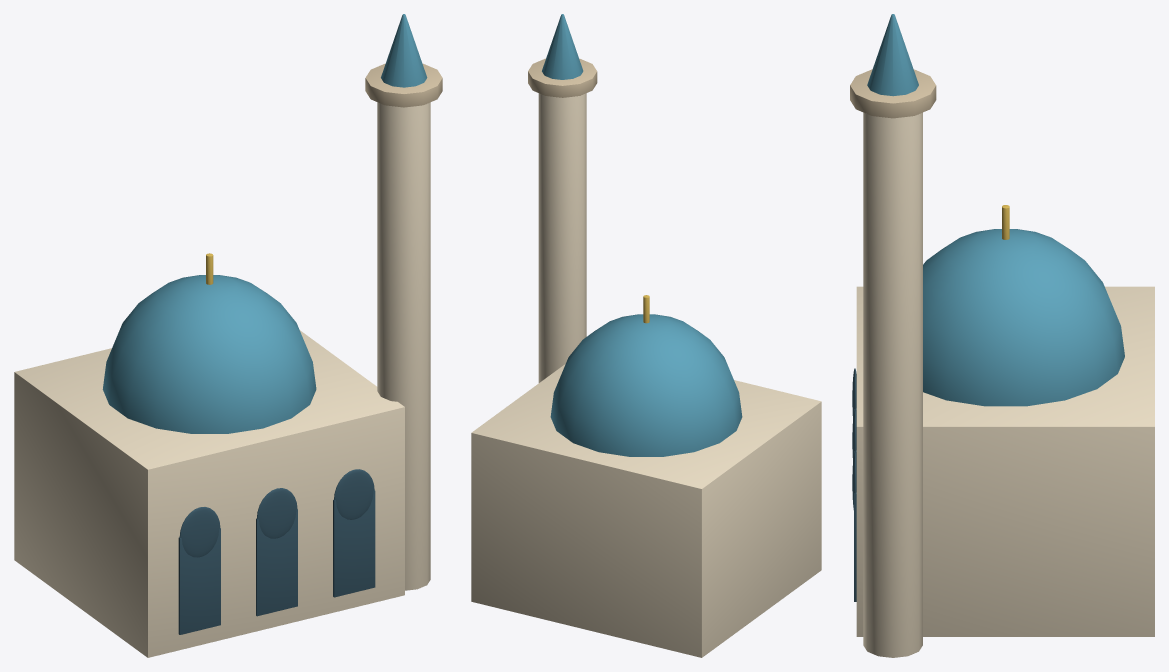
File: rg_oriente_2.glb
3 views of the same model, side by side, from view 1: azimuth 30°, elevation 25°; view 2: azimuth 150°, elevation 25°; view 3: azimuth 270°, elevation 25° (orthographic). The views are drawn at different scales.
Parts seen in each view (by area): view 1: rg_oriente_2; view 2: rg_oriente_2; view 3: rg_oriente_2.
Part boxes in pixels (bbox=[...]): rg_oriente_2: bbox=[14, 14, 442, 657]; rg_oriente_2: bbox=[471, 14, 821, 657]; rg_oriente_2: bbox=[850, 14, 1154, 657].
Bounding box in the file's own units: 11.9 × 21 × 9.2.
